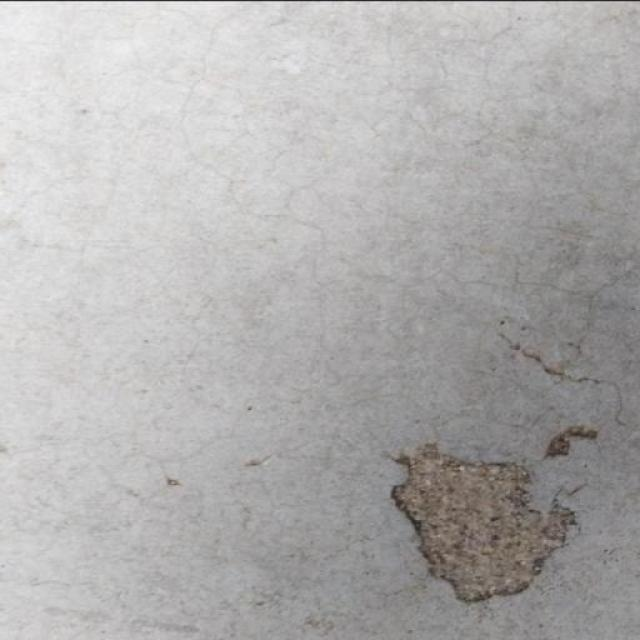D10: (391, 440, 575, 602), (544, 425, 595, 459)
